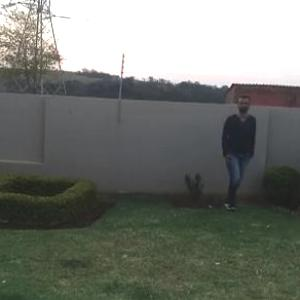follow: (211, 92, 262, 208)
